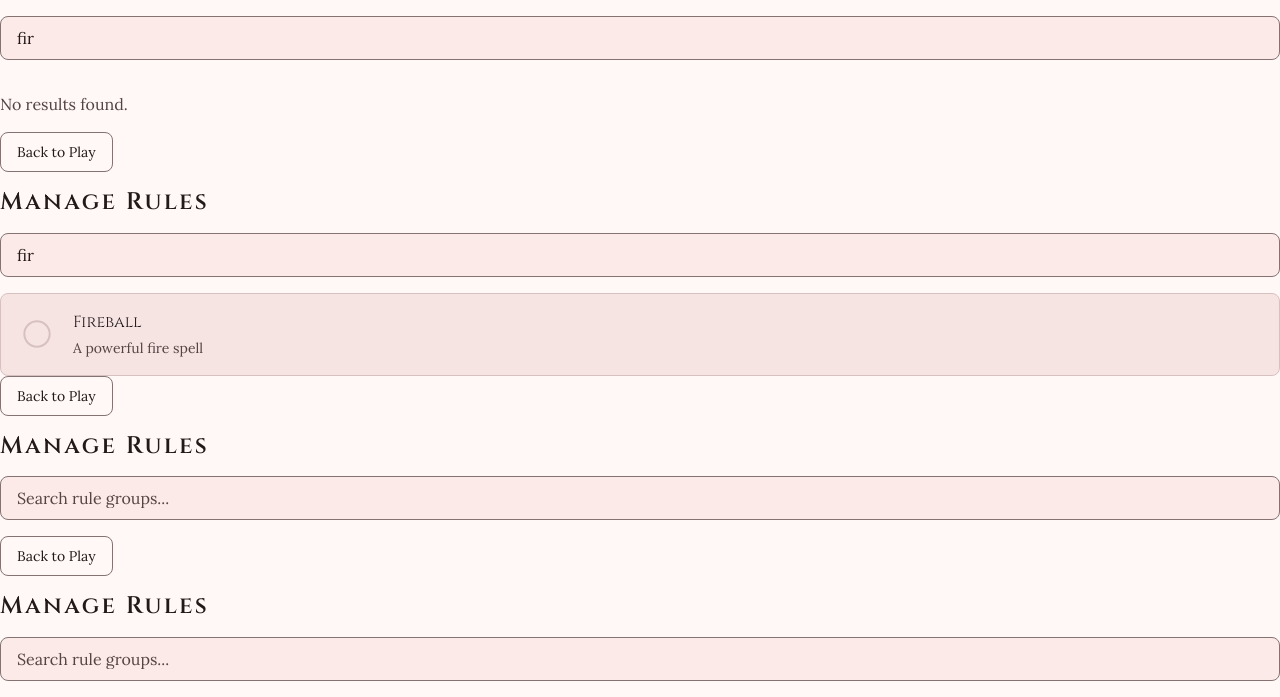
ManageRulesMode › renders checked indicator for assigned rule groups
(page scrolled)
Type "fir" into the 2nd field with placeholder "Search rule groups..." at (640, 659), box [0, 637, 1279, 681]
Wait 300 ms
(page scrolled)
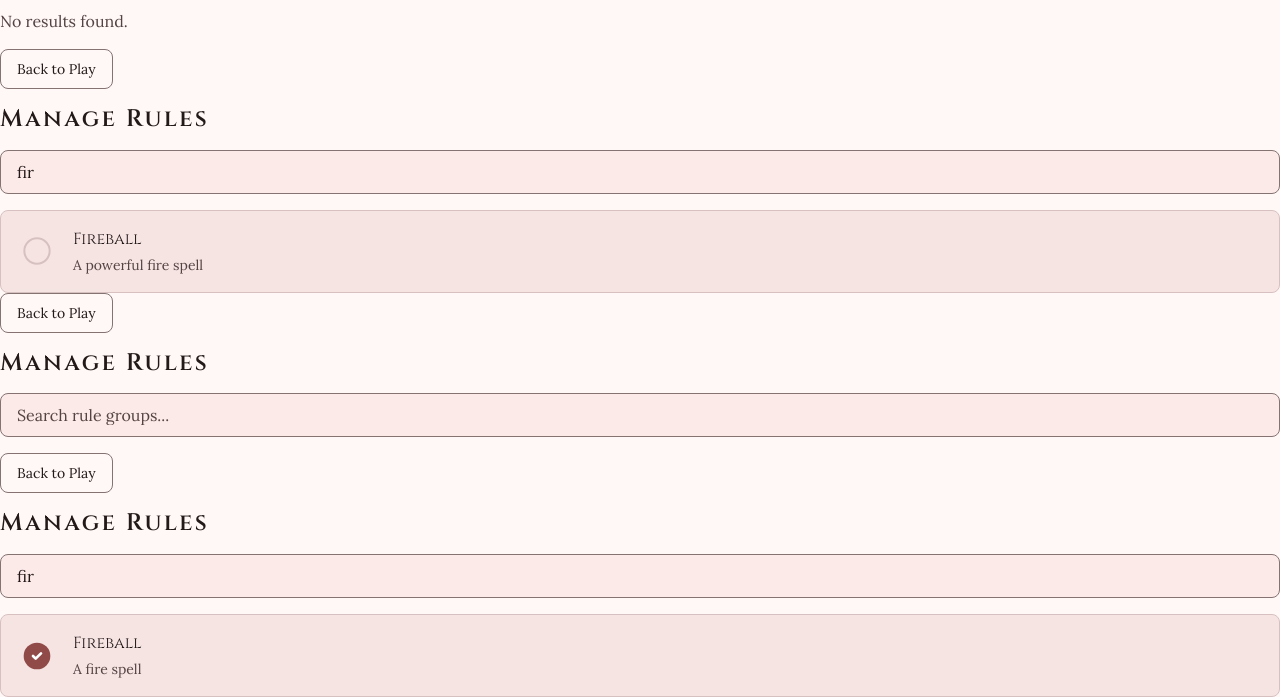
Expected: the checkbox with class "manage-rules__indicator--checked" is shown, [21, 640, 53, 672]
